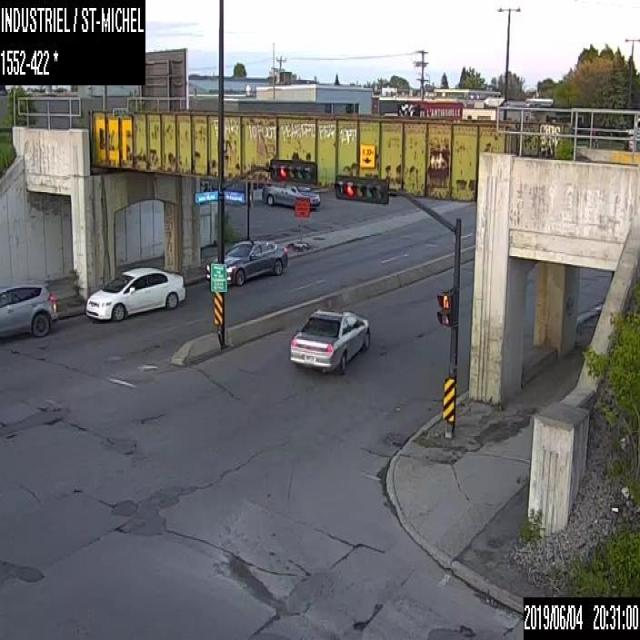construction: (291, 196, 309, 252)
vehicle: (84, 264, 186, 321), (290, 307, 371, 373), (205, 238, 288, 287), (0, 280, 58, 340), (259, 182, 320, 210)
